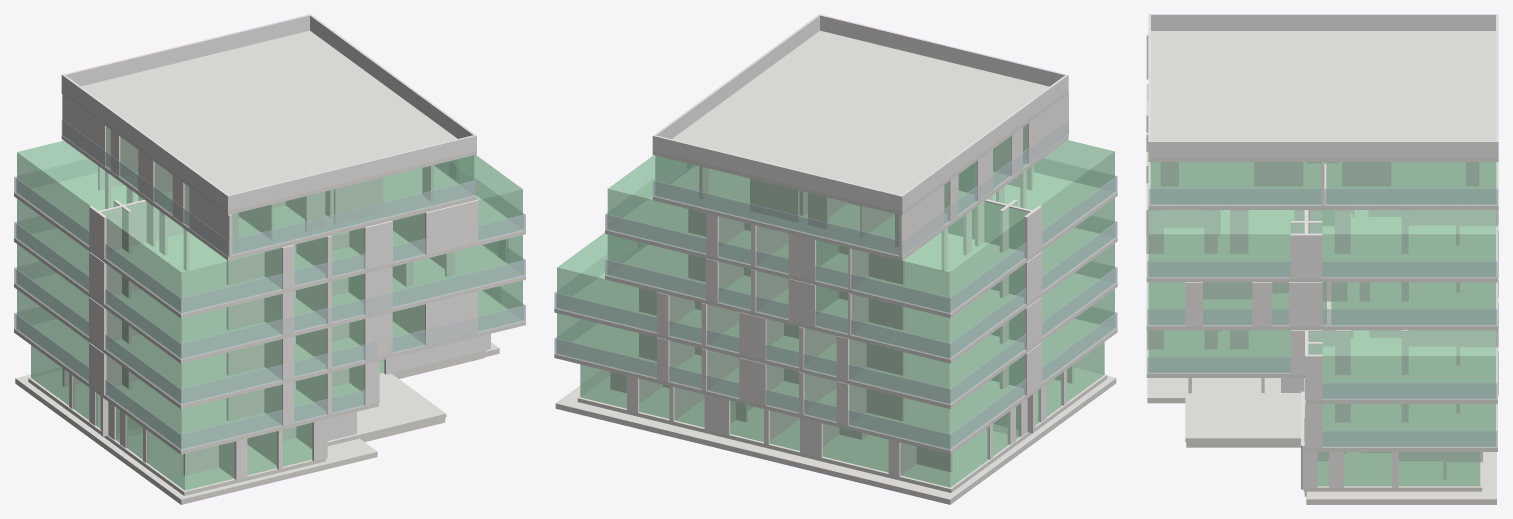
The model's file is zeus3.glb.
3 renders of one model, left to right at view 1: azimuth 30°, elevation 25°; view 2: azimuth 150°, elevation 25°; view 3: azimuth 270°, elevation 25°, orthographic. The views are drawn at different scales.
Parts seen in each view (by area): view 1: P6-losa, P6-parapeto, APT-4C, P4-muros, P5-muros, APT-5B, P4-losa, APT-3D, APT-2C, APT-1C, P0-losa, P2-muros (+23 smaller); view 2: P6-losa, P6-parapeto, APT-4B, P4-losa, P0-losa, APT-5A, P4-muros, P5-muros, APT-2B, APT-1B, P2-losa, P1-losa (+26 smaller); view 3: P6-losa, P4-losa, P6-parapeto, APT-2A, P0-losa, APT-4A, P2-losa, APT-4D, P4-muros, P5-losa, P3-losa, APT-1A (+18 smaller).
Part boxes in pixels (x1,y1,x2,y2): P6-losa: [61, 30, 476, 215]; P6-parapeto: [61, 14, 476, 211]; APT-4C: [102, 201, 364, 312]; P4-muros: [89, 166, 478, 289]; P5-muros: [62, 94, 433, 257]; APT-5B: [154, 155, 474, 253]; P4-losa: [14, 173, 525, 318]; APT-3D: [106, 265, 364, 357]; APT-2C: [106, 310, 364, 403]; APT-1C: [106, 355, 364, 448]; P0-losa: [28, 350, 485, 495]; P2-muros: [89, 291, 477, 380]; P6-losa: [652, 30, 1068, 215]; P6-parapeto: [652, 14, 1068, 211]; APT-4B: [816, 201, 1028, 312]; P4-losa: [605, 172, 1117, 317]; P0-losa: [577, 367, 1107, 492]; APT-5A: [655, 155, 976, 254]; P4-muros: [688, 166, 1042, 289]; P5-muros: [699, 93, 1068, 257]; APT-2B: [766, 310, 1024, 403]; APT-1B: [766, 355, 1024, 448]; P2-losa: [554, 270, 1117, 408]; P1-losa: [554, 319, 1117, 454]; P6-losa: [1148, 31, 1498, 161]; P4-losa: [1146, 101, 1497, 282]; P6-parapeto: [1148, 14, 1498, 157]; APT-2A: [1308, 330, 1495, 398]; P0-losa: [1185, 378, 1482, 491]; APT-4A: [1310, 210, 1495, 276]; P2-losa: [1146, 330, 1497, 403]; APT-4D: [1148, 210, 1304, 276]; P4-muros: [1146, 109, 1498, 278]; P5-losa: [1148, 162, 1498, 209]; P3-losa: [1146, 282, 1497, 330]; APT-1A: [1322, 404, 1495, 446].
Size of the model in its own units: 27.4 by 19.6 by 20.01.
